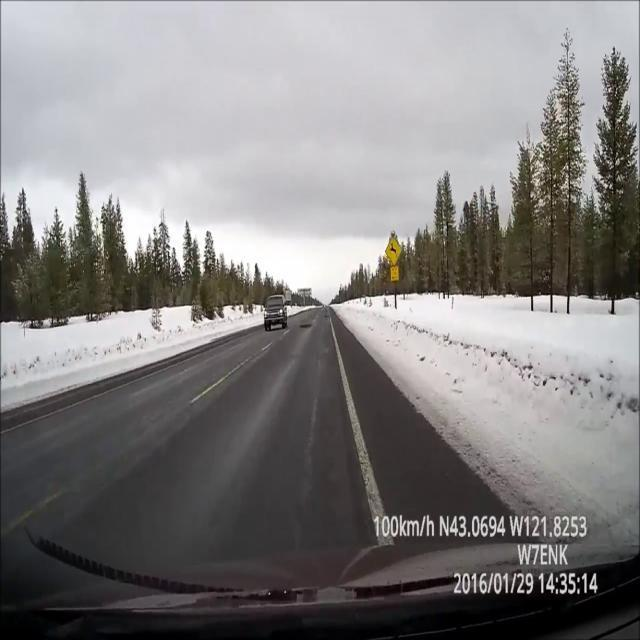pothole: (299, 323, 312, 330), (323, 315, 330, 319)
